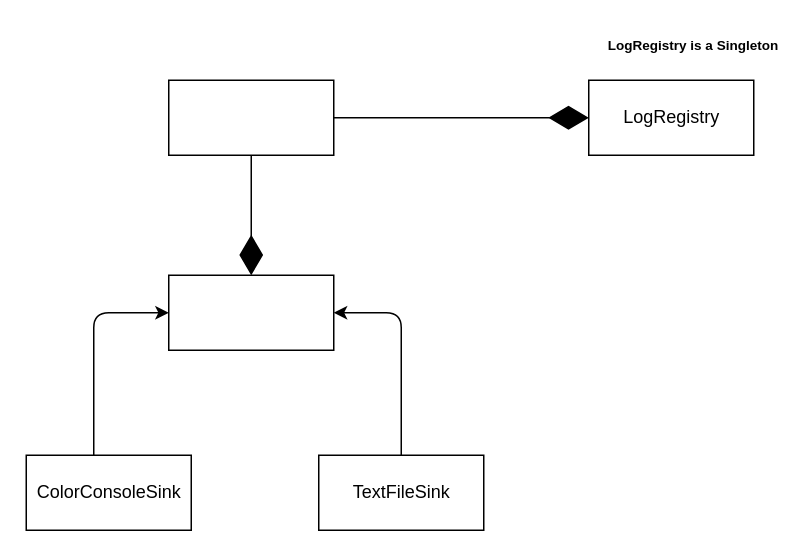
The diagram is 806 pixels wide and 557 high, and some of its shapes have lost their labels. Each missing label, with the centre of its shape:
"Logger" goes at (250,117).
"LogSinksI" goes at (250,312).
